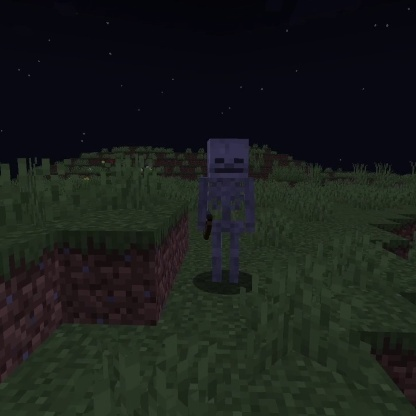skeleton: (195, 133, 259, 287)
